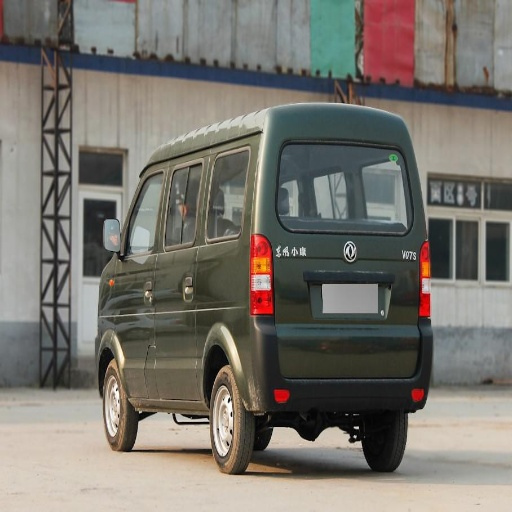back_bumper: (282, 368, 428, 407)
back_glass: (212, 143, 252, 191)
back_left_door: (159, 193, 194, 255)
back_left_light: (249, 239, 274, 319)
back_right_door: (277, 138, 382, 223)
trunk: (176, 230, 416, 409)
